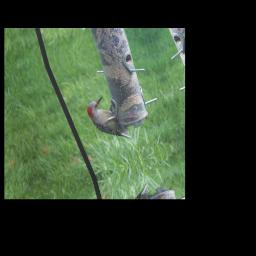Woodpecker: (85, 90, 133, 151)
